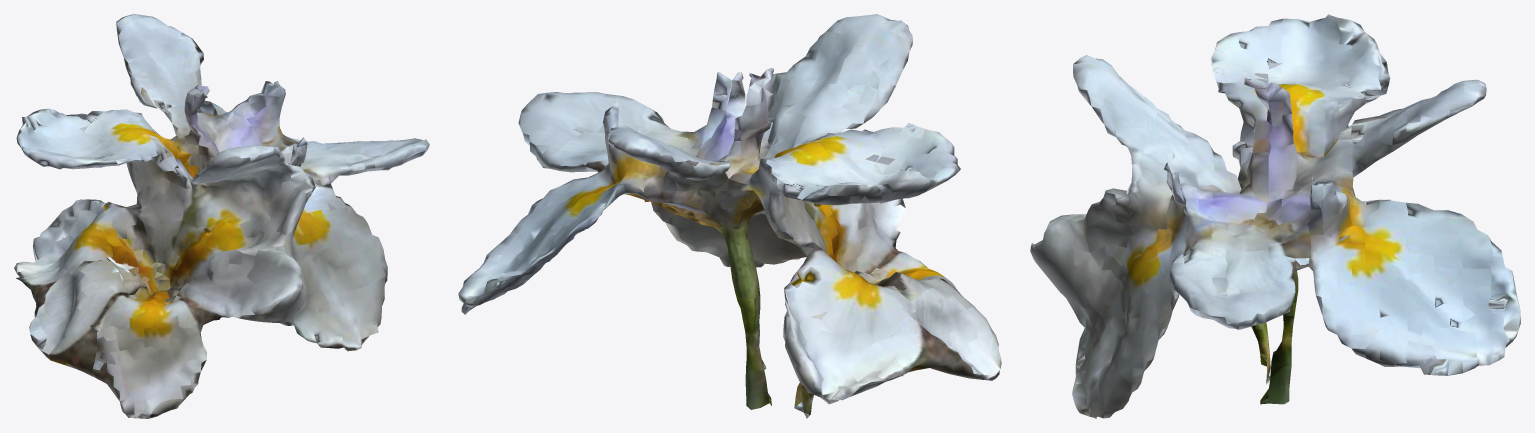
3 renders of one model, left to right at view 1: azimuth 30°, elevation 25°; view 2: azimuth 150°, elevation 25°; view 3: azimuth 270°, elevation 25°, orthographic. The views are drawn at different scales.
Parts seen in each view (by area): view 1: e3c361cb; view 2: e3c361cb; view 3: e3c361cb.
Boxes of the visible parts, left/top/right/bottom form: e3c361cb: left=14, top=14, right=429, bottom=418; e3c361cb: left=458, top=14, right=1001, bottom=418; e3c361cb: left=1030, top=14, right=1520, bottom=418.
Bounding box in the file's own units: 0.1074 × 0.0723 × 0.0967.
1 material, 1 textured.
